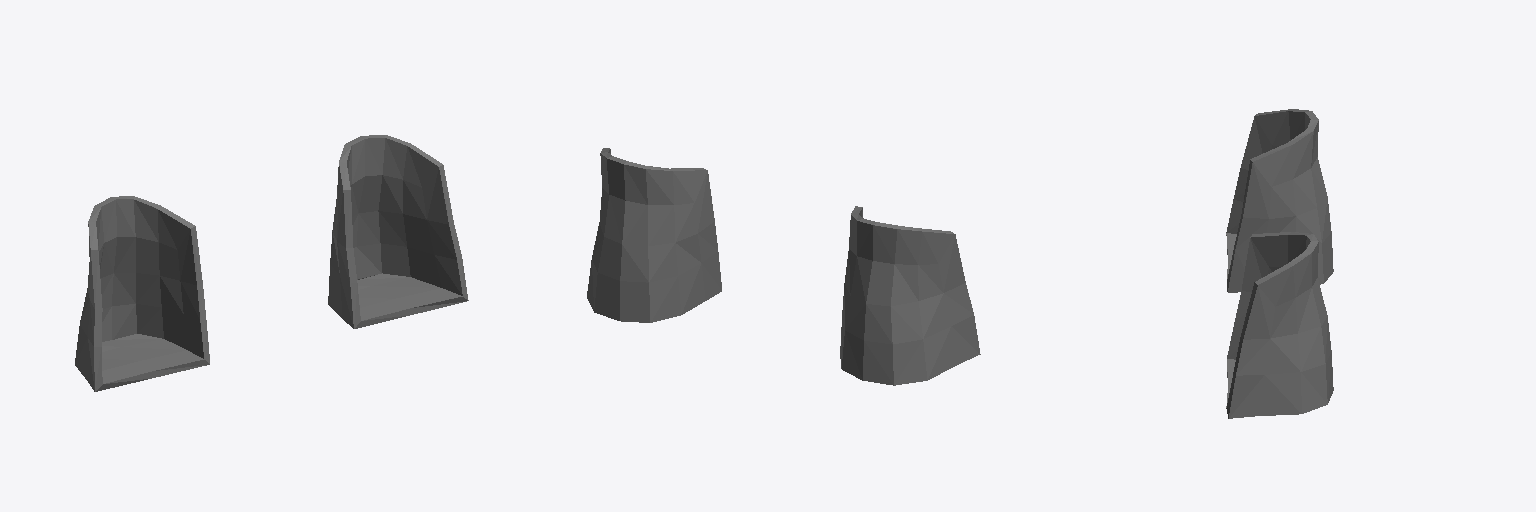
The model's file is LowPoly_Guarda_SapatosdeFerroParte04.obj.
3 renders of one model, left to right at view 1: azimuth 30°, elevation 25°; view 2: azimuth 150°, elevation 25°; view 3: azimuth 270°, elevation 25°, orthographic.
Visible parts, largest first — view 1: LowPoly_Guarda_SapatosdeFerroParte04; view 2: LowPoly_Guarda_SapatosdeFerroParte04; view 3: LowPoly_Guarda_SapatosdeFerroParte04.
Part boxes in pixels (x1,y1,x2,y2): LowPoly_Guarda_SapatosdeFerroParte04: (75,135,468,391); LowPoly_Guarda_SapatosdeFerroParte04: (587,148,980,385); LowPoly_Guarda_SapatosdeFerroParte04: (1226,109,1333,418).
Bounding box in the file's own units: 30.9 × 11.95 × 7.69.